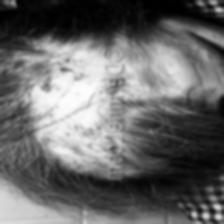Potentially Malignant Skin Tumors: (58, 134, 106, 172), (75, 124, 100, 134), (108, 77, 125, 91), (41, 75, 53, 90), (60, 66, 72, 71)
